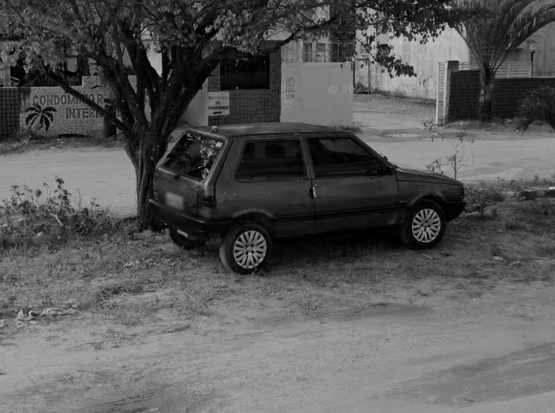car: (147, 120, 469, 277)
